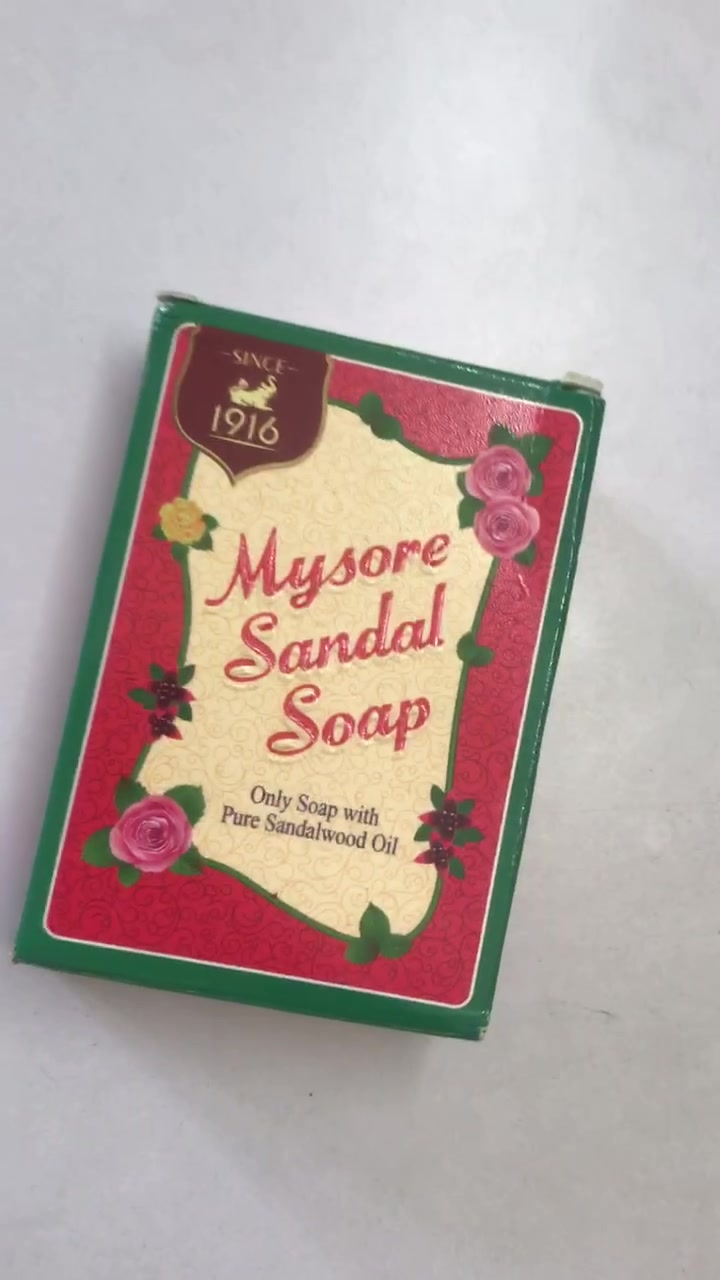mysore sandal soap: (14, 300, 603, 1041)
